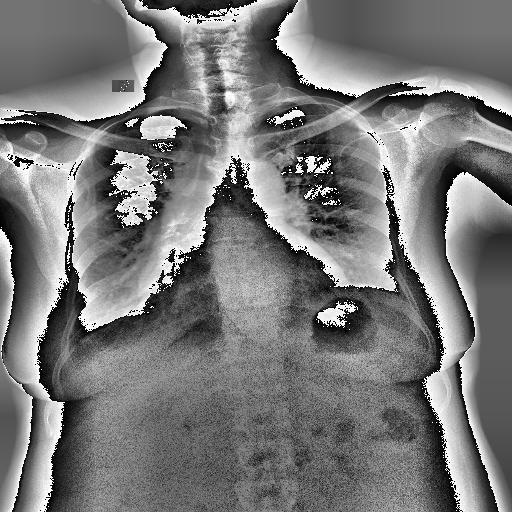0- Aortic enlargement: (216, 155, 288, 210), (224, 159, 286, 210)
3- Cardiomegaly: (136, 256, 350, 316), (134, 246, 350, 302), (130, 268, 354, 320)
7- Lung Opacity: (144, 199, 204, 302)
